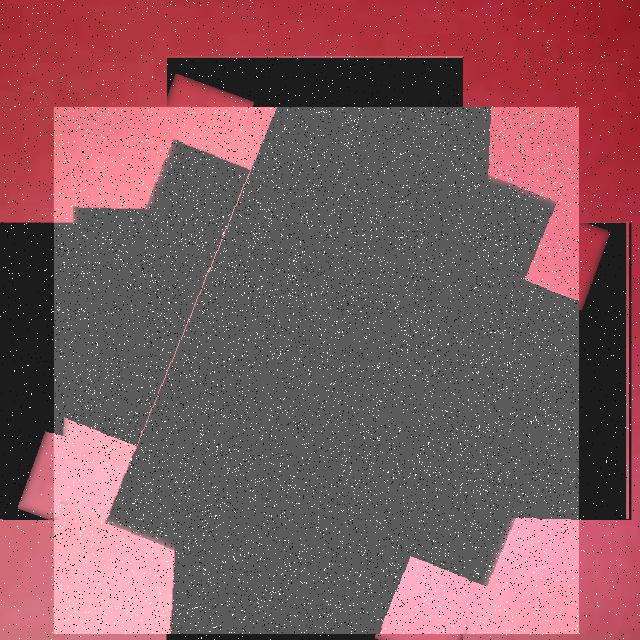lima puluh ribu rupiah: (51, 107, 578, 634)
